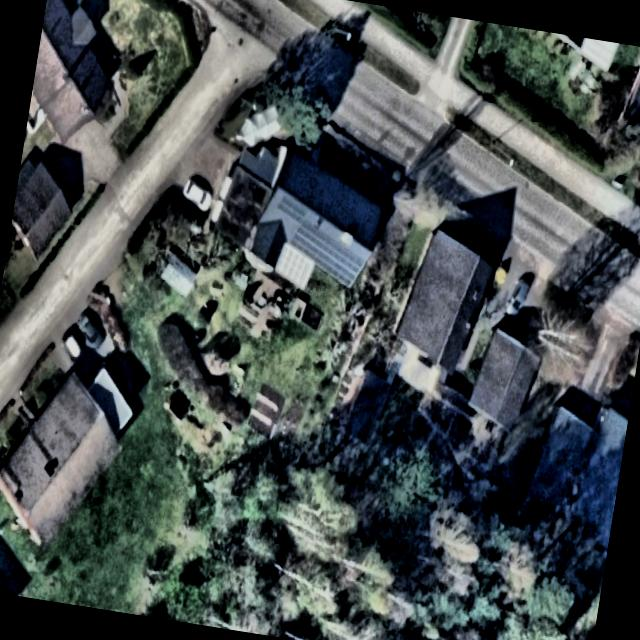roof_pv: (318, 236, 369, 296), (290, 224, 326, 272), (275, 193, 310, 225)
